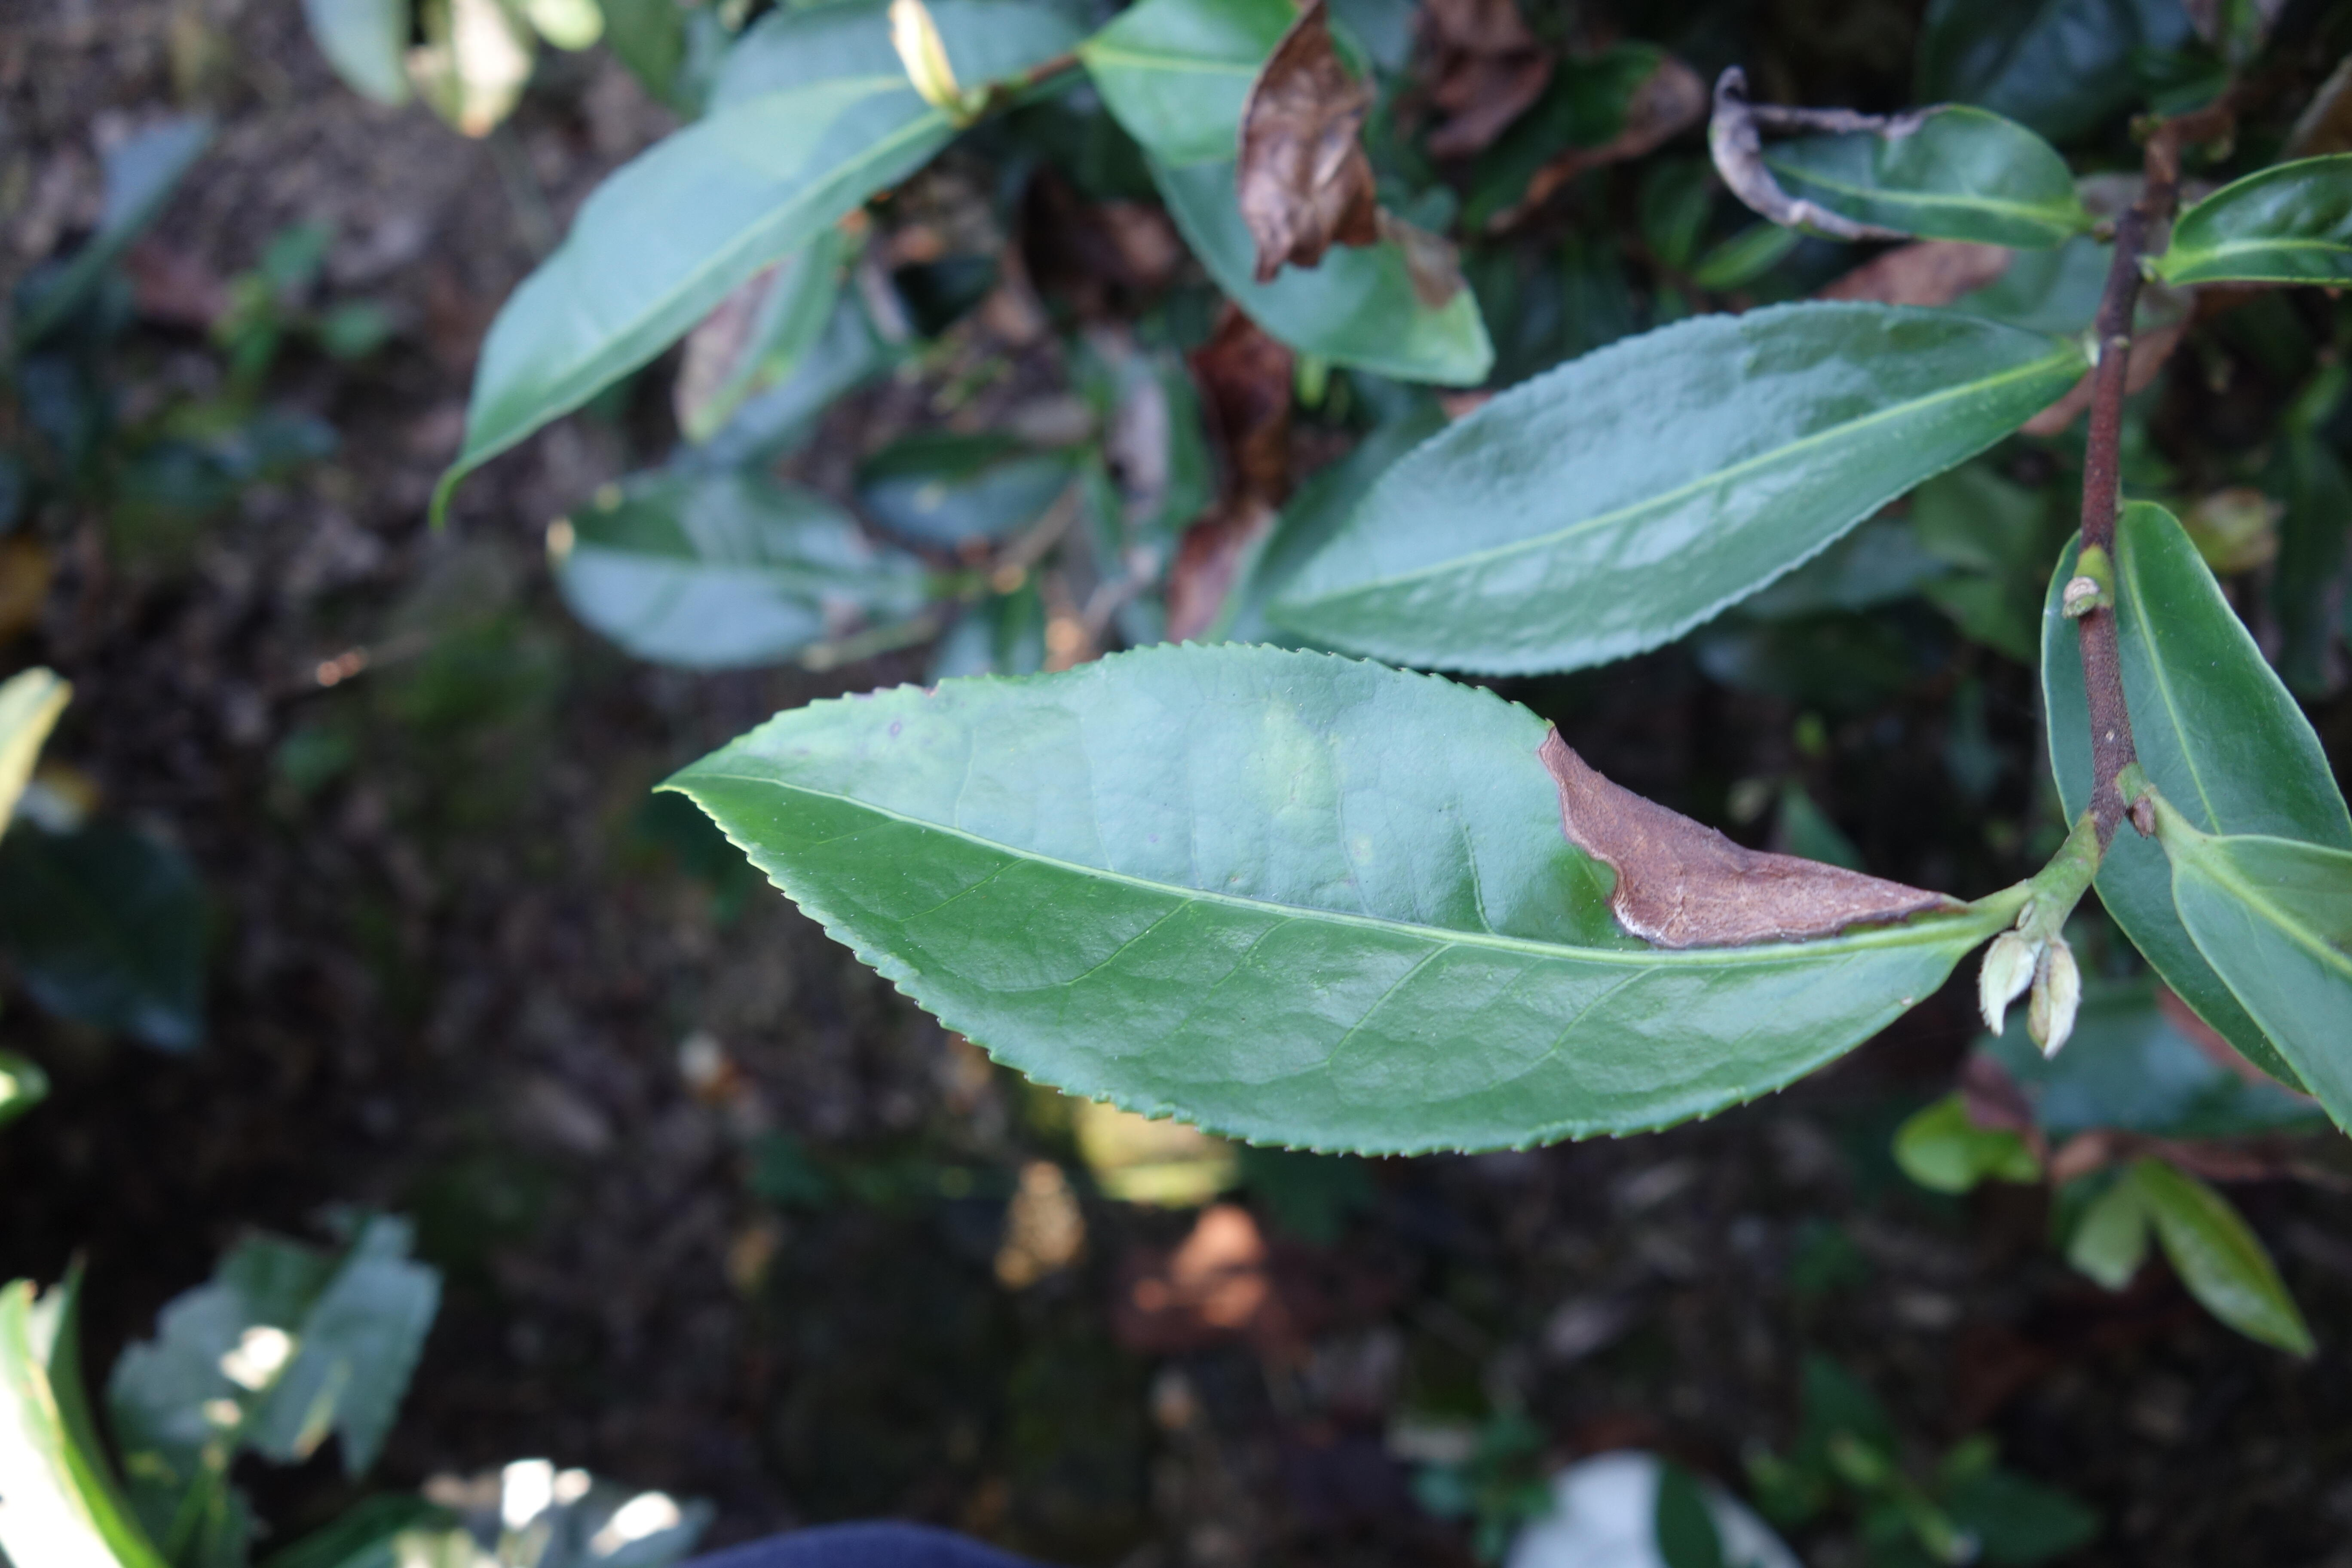healthy: (1267, 299, 2096, 681), (2039, 500, 2352, 1092)
tanju_high: (653, 640, 1991, 1160)
